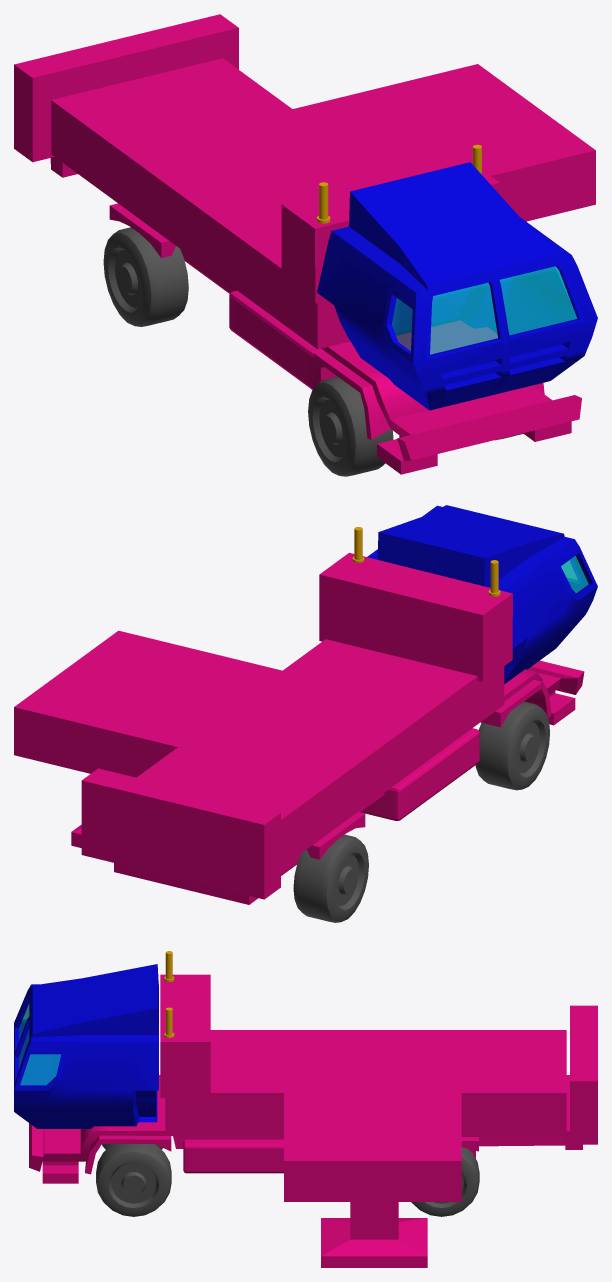
File: Truck_lowpoly.fbx
The picture shows the model from 3 angles, top to bottom: view 1: azimuth 30°, elevation 25°; view 2: azimuth 150°, elevation 25°; view 3: azimuth 270°, elevation 25°; orthographic projection. The views are drawn at different scales.
Parts seen in each view (by area): view 1: Truck_lowpoly_polySurface403; view 2: Truck_lowpoly_polySurface403; view 3: Truck_lowpoly_polySurface403.
Boxes of the visible parts, left/top/right/bottom form: Truck_lowpoly_polySurface403: left=14, top=14, right=597, bottom=476; Truck_lowpoly_polySurface403: left=14, top=505, right=597, bottom=922; Truck_lowpoly_polySurface403: left=14, top=951, right=597, bottom=1267.
Bounding box in the file's own units: 549 × 379 × 987.
